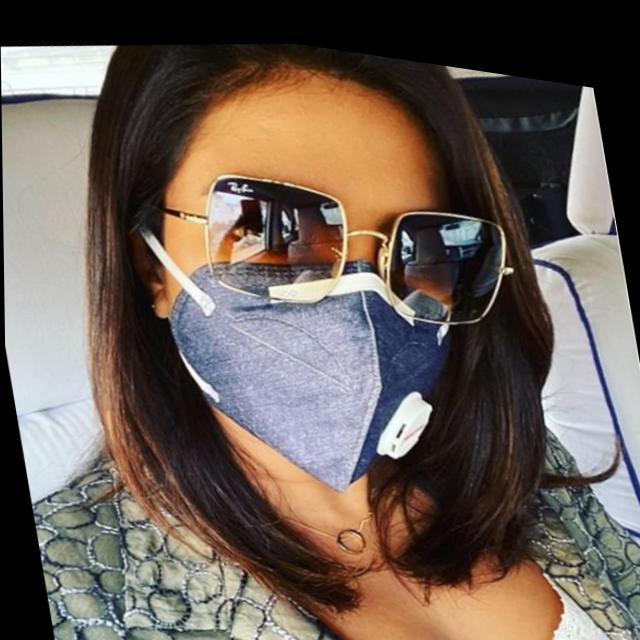Nonhelmet: (79, 41, 618, 610)
